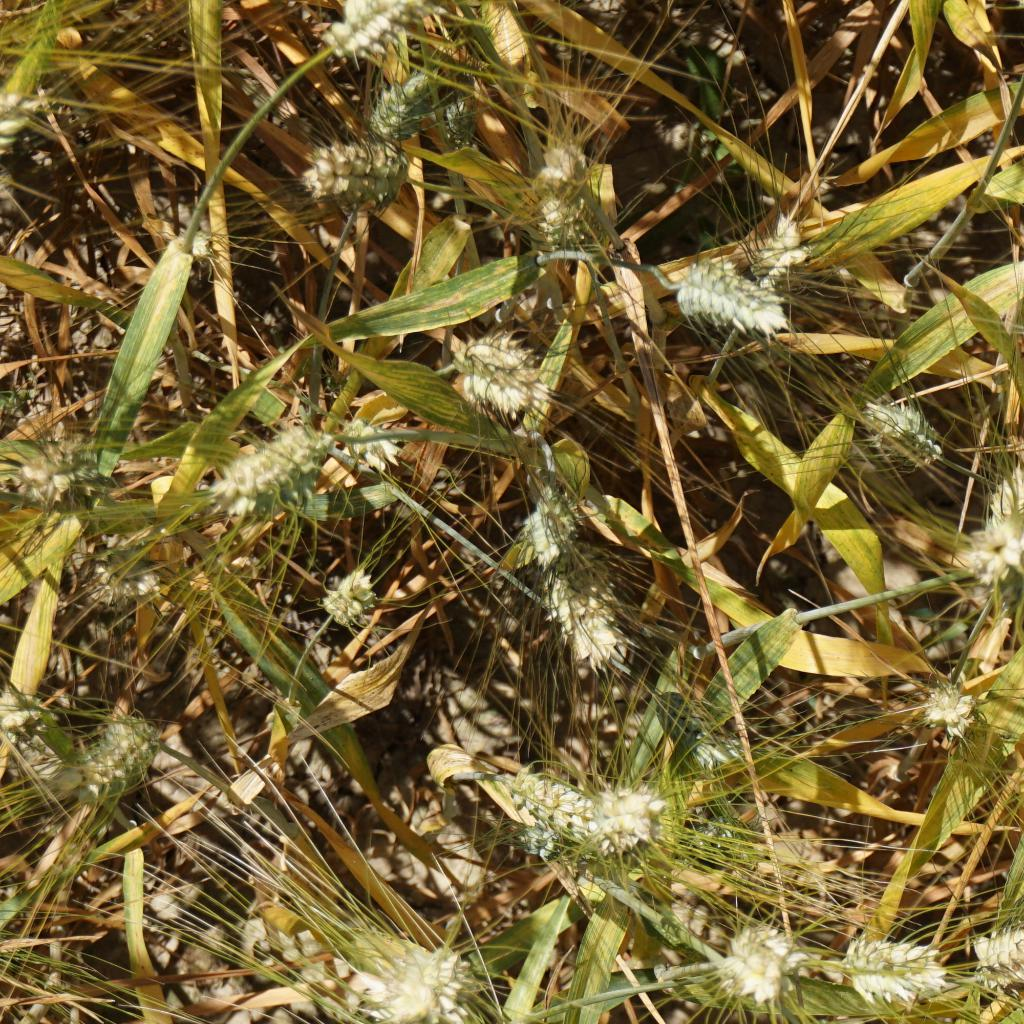0-0: (523, 777, 675, 860), (220, 413, 325, 529), (523, 555, 628, 667), (334, 919, 453, 1012), (645, 676, 750, 781), (661, 256, 787, 342), (0, 423, 102, 529), (825, 919, 933, 1004), (519, 132, 598, 242), (77, 533, 179, 615), (720, 907, 801, 998), (295, 135, 405, 202), (464, 325, 537, 421), (76, 709, 155, 795), (686, 803, 768, 883), (328, 0, 439, 55), (734, 204, 815, 279), (336, 409, 419, 480), (521, 468, 582, 563), (860, 393, 941, 462), (399, 990, 559, 1024), (963, 902, 1024, 986), (966, 464, 1024, 545), (0, 96, 37, 218), (318, 567, 386, 630), (370, 69, 446, 123), (0, 677, 57, 743), (913, 673, 970, 730), (516, 814, 570, 869), (437, 92, 483, 148), (0, 904, 31, 983), (178, 217, 221, 269), (320, 361, 352, 396)
